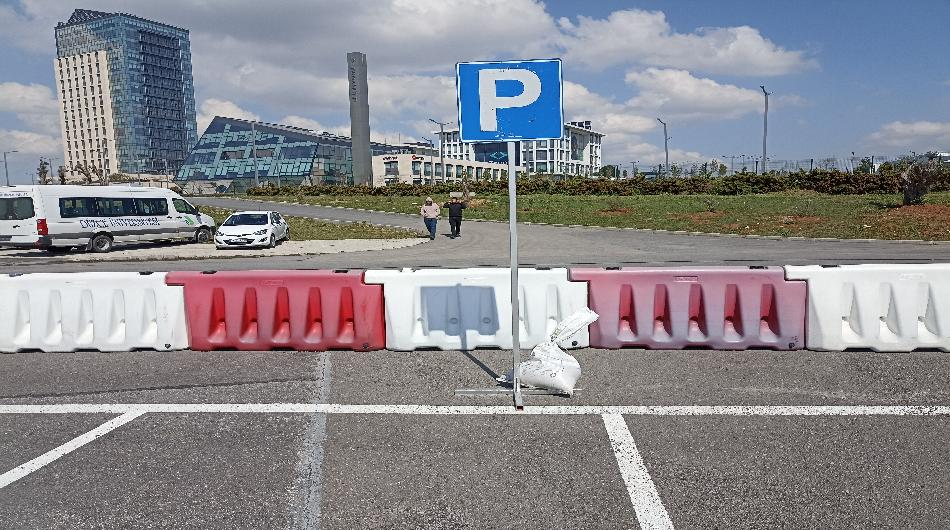park: (456, 57, 563, 139)
